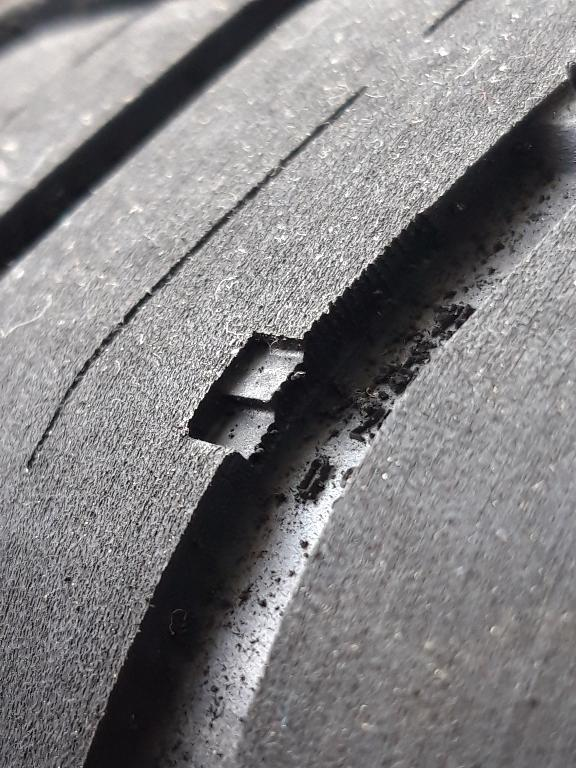temoin:25: (175, 324, 354, 490)
